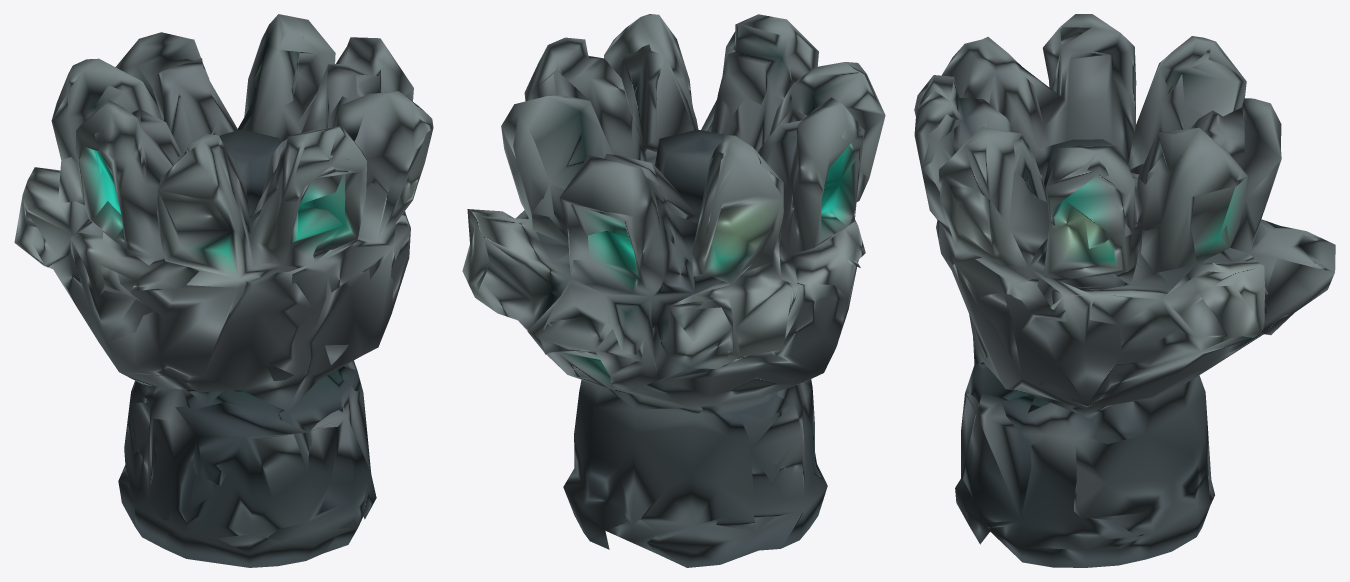
Rendered from gen3d-power-glove-lod0.glb.
The picture shows the model from 3 angles, left to right: view 1: azimuth 30°, elevation 25°; view 2: azimuth 150°, elevation 25°; view 3: azimuth 270°, elevation 25°; orthographic projection.
Visible parts, largest first — view 1: part_0; view 2: part_0; view 3: part_0.
Boxes of the visible parts, x1=… form: part_0: x1=14, y1=14, x2=433, y2=567; part_0: x1=462, y1=14, x2=885, y2=567; part_0: x1=914, y1=14, x2=1335, y2=567.
Bounding box in the file's own units: 0.7547 × 0.9987 × 0.8628.
